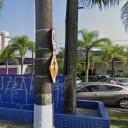speed_limit_40: (51, 27, 57, 52)
